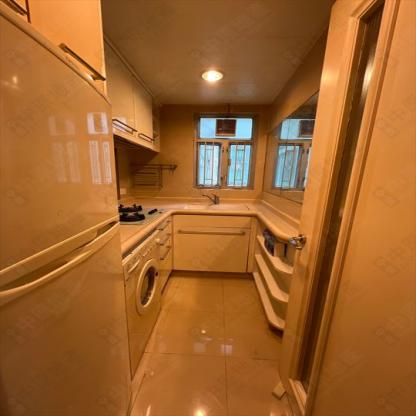Cupboard: (1, 0, 154, 149), (169, 214, 254, 271)
Exhaust Fan: (212, 118, 238, 137)
Faucet: (193, 192, 225, 205)
Fridge: (0, 0, 130, 414)
Sink: (176, 203, 249, 210)
Stove: (118, 202, 166, 228)
Washing Machine: (120, 232, 159, 376)
